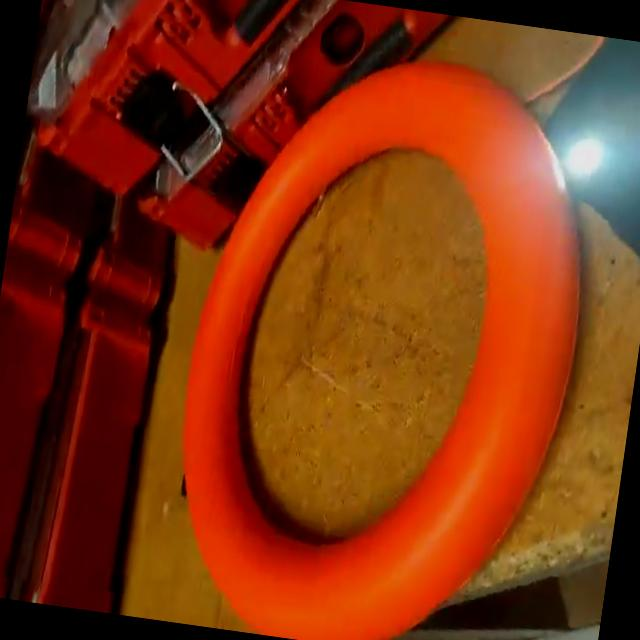note: (148, 28, 619, 640)
